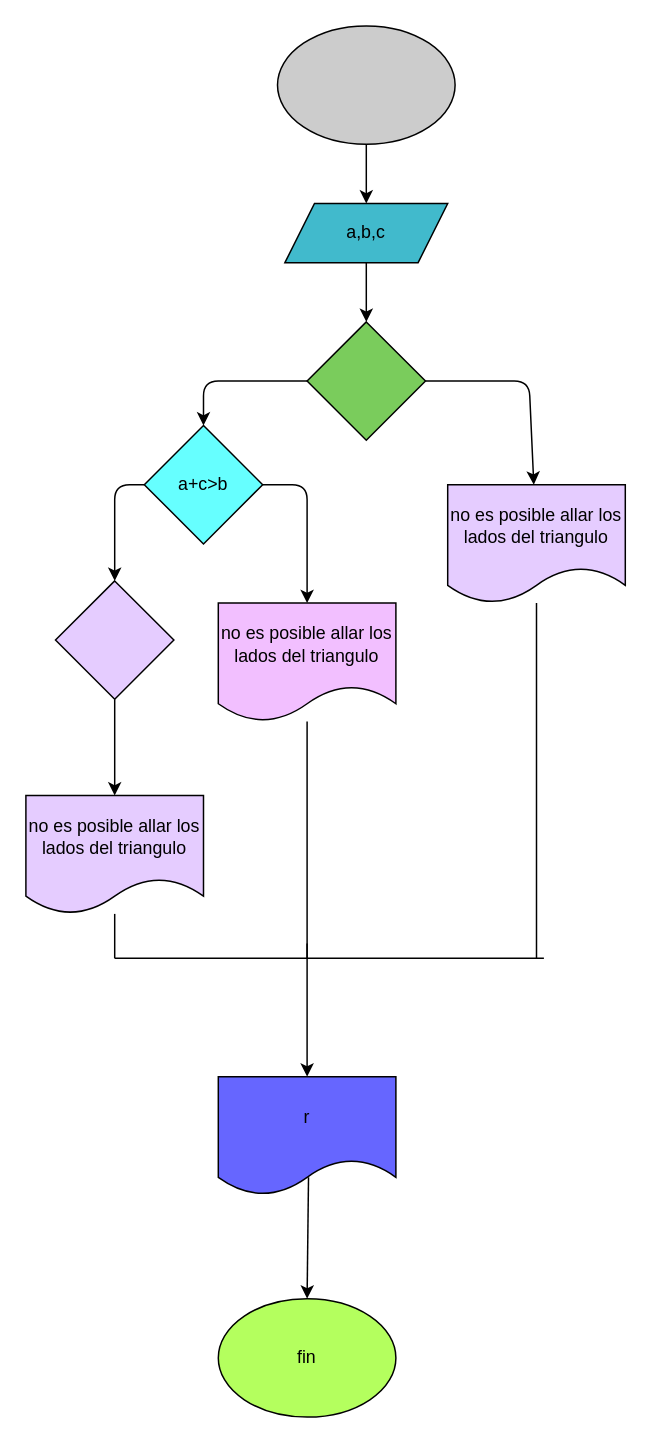
The diagram is 651 pixels wide and 1443 high, and some of its shapes have lost their labels. Here are the shapes that lost their labels. From the top down, the centre of each, then its label:
point (365, 84): Inicio
point (366, 380): a+b>c
point (114, 639): b+c>a
